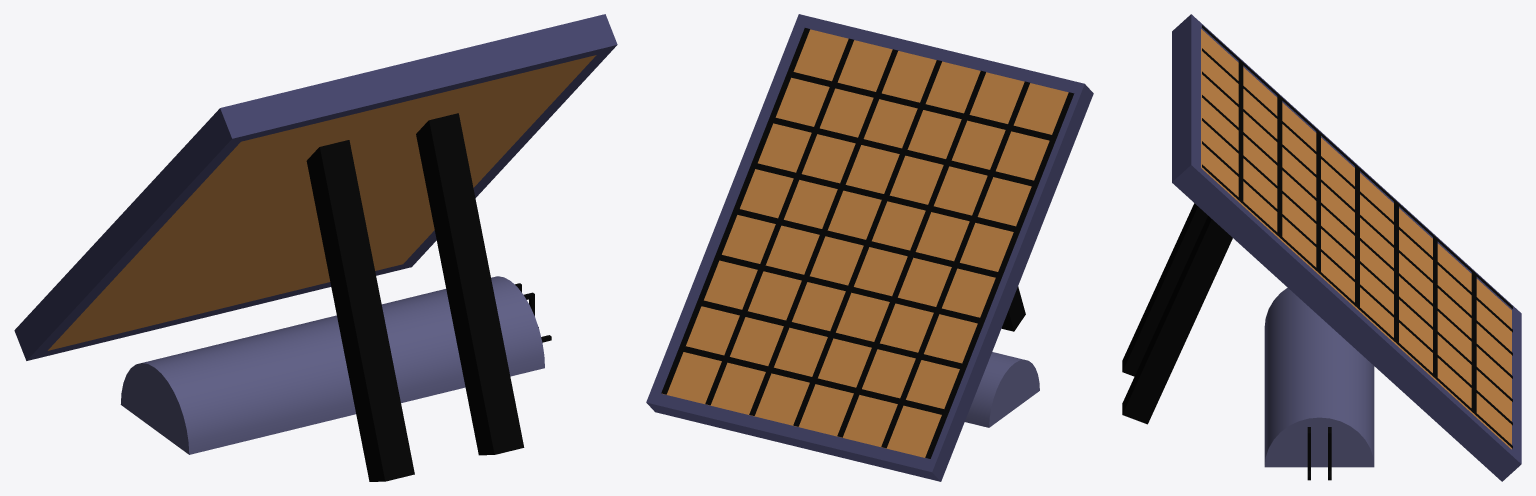
The model's file is SolarPanels.obj.
3 renders of one model, left to right at view 1: azimuth 30°, elevation 25°; view 2: azimuth 150°, elevation 25°; view 3: azimuth 270°, elevation 25°, orthographic. The views are drawn at different scales.
Visible parts, largest first — view 1: SolarPanels; view 2: SolarPanels; view 3: SolarPanels.
Part boxes in pixels (left/top/right/bottom): SolarPanels: left=14, top=14, right=617, bottom=481; SolarPanels: left=646, top=14, right=1093, bottom=481; SolarPanels: left=1122, top=14, right=1521, bottom=481.
Size of the model in its own units: 6.81 by 6.36 by 7.26.
